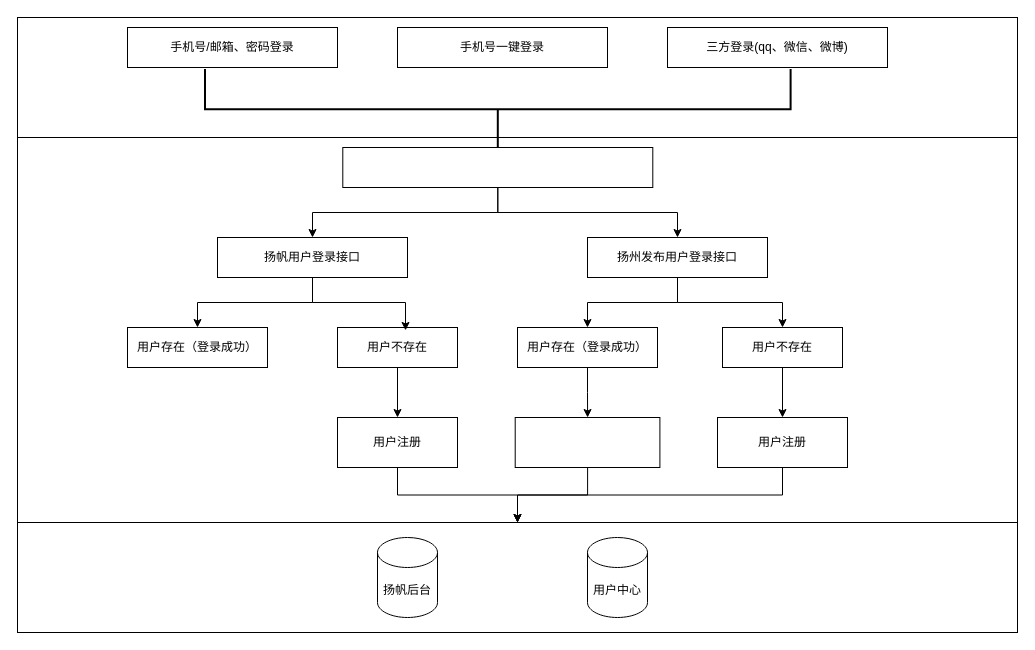
The diagram is 1035 pixels wide and 650 high, and some of its shapes have lost their labels. The shapes that lost their labels are listed below. From the top down, each one's centre as x and y in pixels, then its label:
At point (497, 167): "用户登录接口".
At point (587, 442): "用户数据同步".
